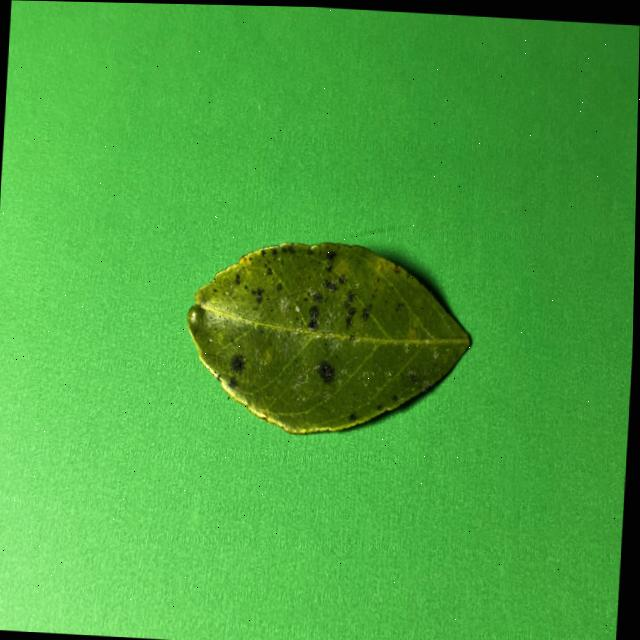sooty_mold: (186, 243, 470, 434)
